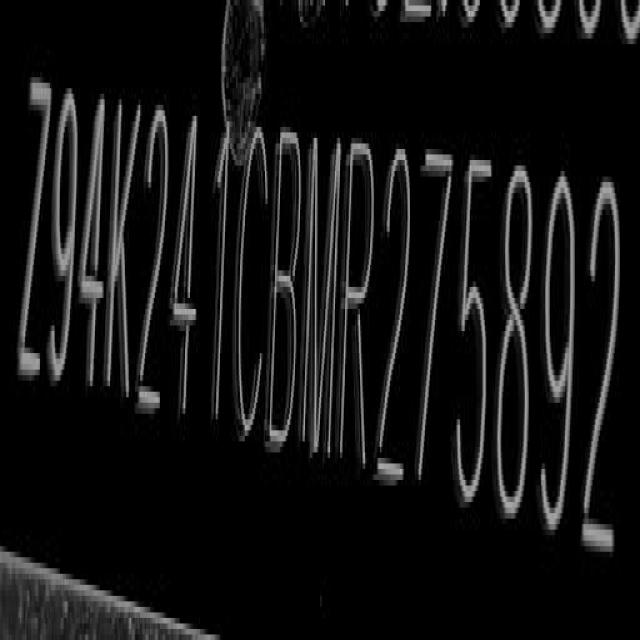1: (210, 129, 231, 435)
2: (588, 177, 624, 567), (383, 138, 415, 484), (140, 99, 168, 418)
4: (172, 116, 203, 425), (80, 86, 110, 400)
5: (455, 146, 489, 511)
7: (419, 140, 454, 496)
8: (500, 164, 534, 523)
9: (539, 168, 576, 546), (51, 81, 78, 396)
B: (271, 124, 301, 456)
C: (235, 127, 269, 448)
K: (110, 93, 138, 409)
M: (302, 129, 341, 482)
R: (341, 133, 378, 477)
Z: (16, 76, 49, 392)
